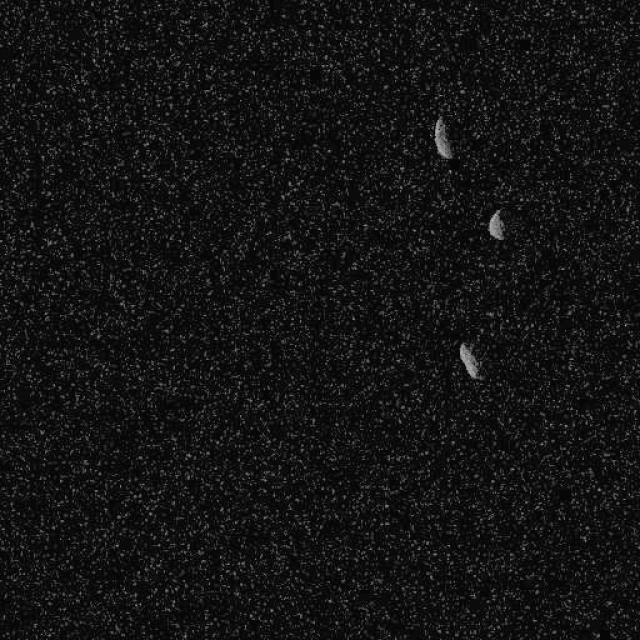D2: (457, 341, 485, 381), (432, 115, 453, 160), (486, 208, 505, 240)
